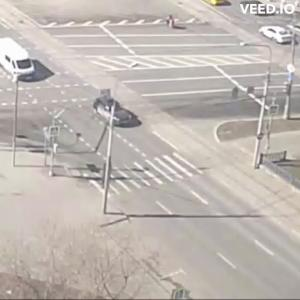car: (1, 34, 44, 81), (95, 93, 131, 127), (261, 27, 297, 46)
